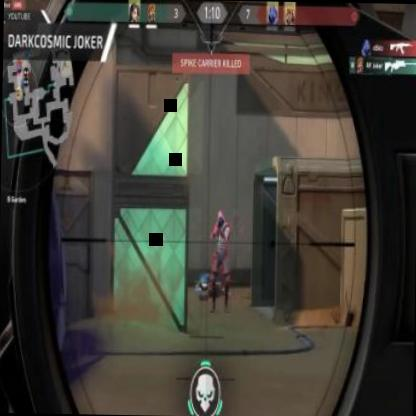enemy: (206, 210, 233, 308)
enemy_head: (216, 209, 225, 226)
